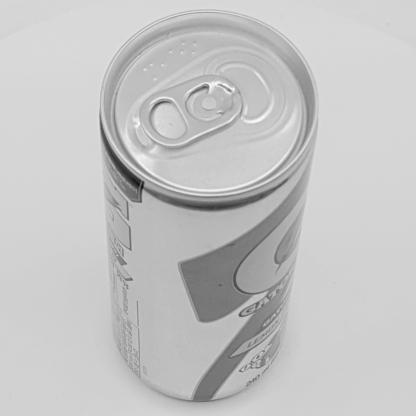alumunium_can: (94, 7, 324, 410)
